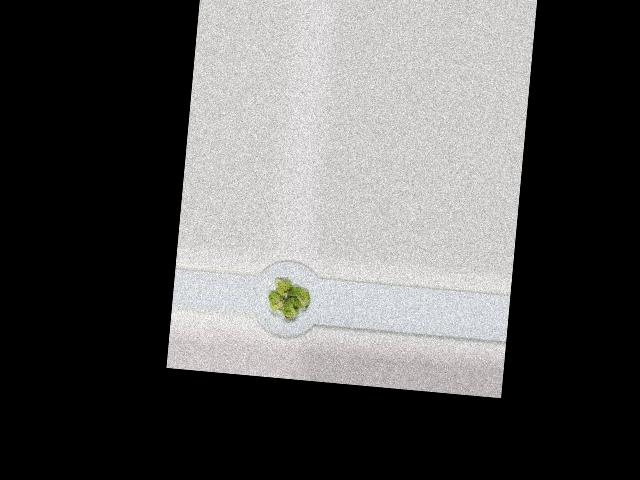lettuce: (267, 276, 315, 322)
